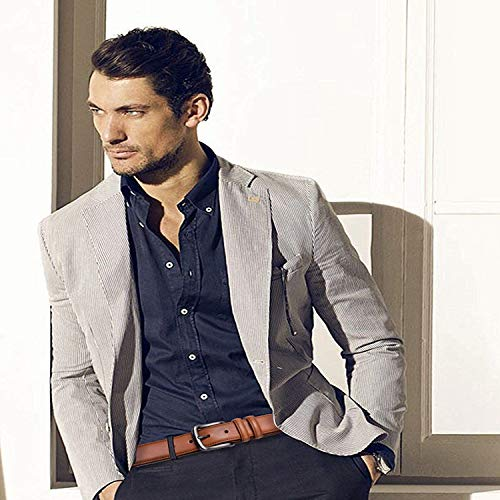F_M_suit jacket: (55, 170, 407, 500)
F_belt: (124, 415, 281, 455)
